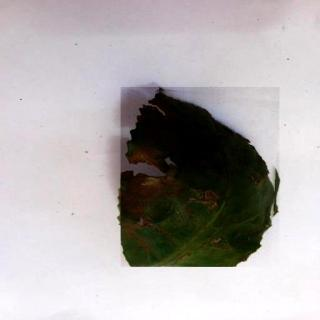Algal Leaf: (122, 88, 281, 268)
